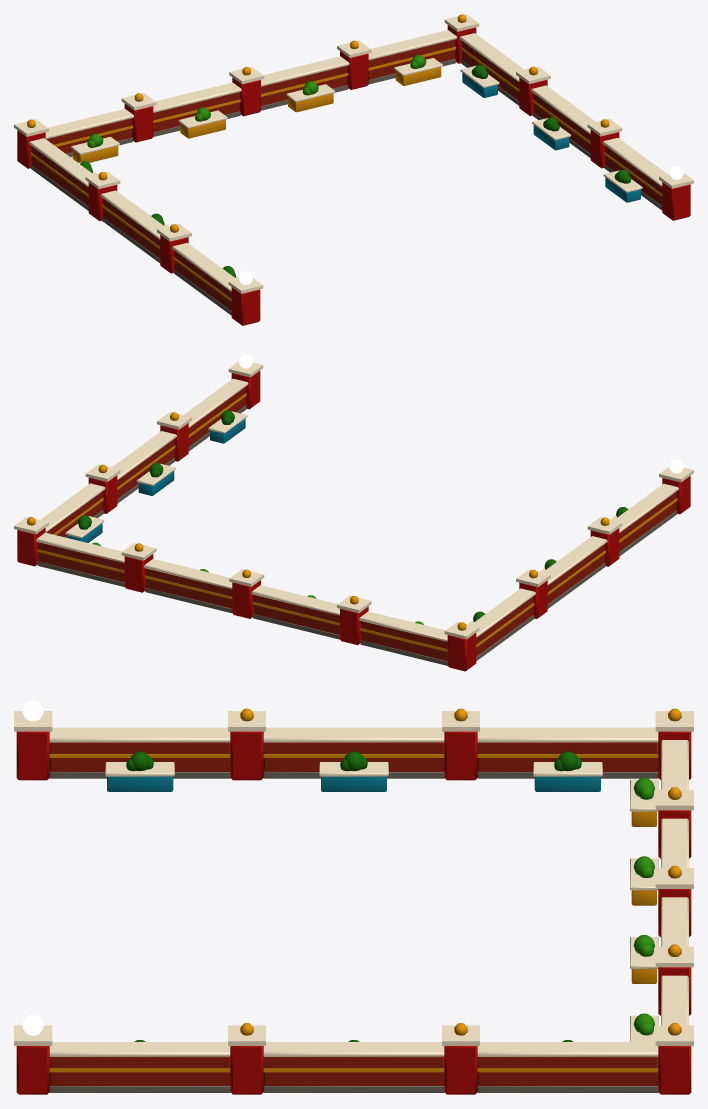
Rendered from DashWalls.fbx.
The picture shows the model from 3 angles, top to bottom: view 1: azimuth 30°, elevation 25°; view 2: azimuth 150°, elevation 25°; view 3: azimuth 270°, elevation 25°; orthographic projection. The views are drawn at different scales.
Parts seen in each view (by area): view 1: DashWalls; view 2: DashWalls; view 3: DashWalls.
Part boxes in pixels (x1=…): DashWalls: x1=14, y1=14, x2=693, y2=325; DashWalls: x1=14, y1=354, x2=693, y2=671; DashWalls: x1=14, y1=700, x2=693, y2=1094.
Bounding box in the file's own units: 30.7 × 3.17 × 26.7.
